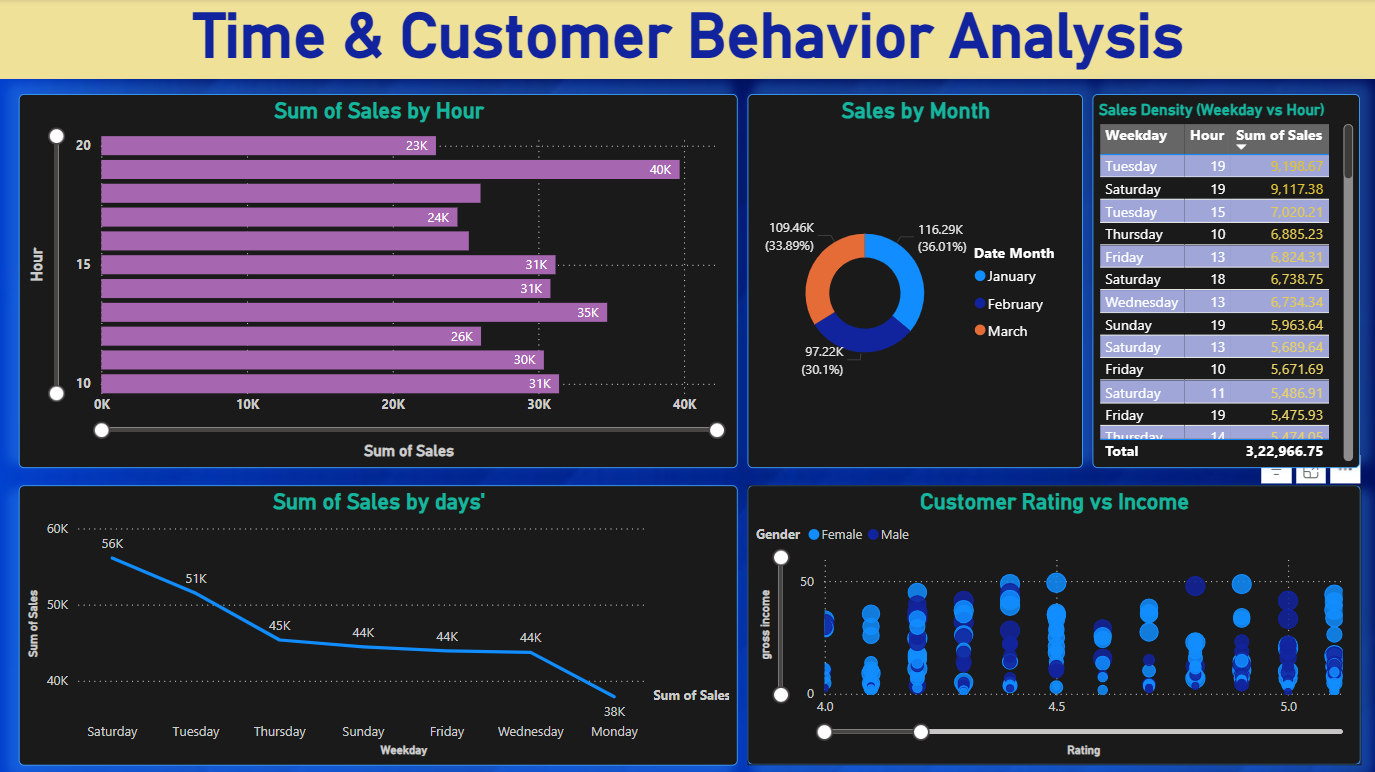

The page's visual inventory and layout, read from the dashboard file:
{"tool":"powerbi","page":{"name":"Time & Customer Behavior Analysis","canvas":[1280,720],"ordinal":2},"visuals":[{"type":"barChart","fields":{"Y":["Sum(SuperMarket Sales Data Cleaned.Sales)"],"Category":["SuperMarket Sales Data Cleaned.Hour"]},"box":[17.4,88.4,668.6,347.7],"z":0},{"type":"lineChart","title":"Sum of Sales by days''","fields":{"Y":["Sum(SuperMarket Sales Data Cleaned.Sales)"],"Category":["SuperMarket Sales Data Cleaned.Weekday"]},"box":[17.4,452.3,668.6,260.5],"z":1000},{"type":"scatterChart","title":"Customer Rating vs Income","fields":{"X":["SuperMarket Sales Data Cleaned.Rating"],"Y":["SuperMarket Sales Data Cleaned.gross income"],"Series":["SuperMarket Sales Data Cleaned.Gender"],"Size":["Sum(SuperMarket Sales Data Cleaned.Quantity)"]},"box":[695.7,452.9,570,260],"z":2000},{"type":"textbox","title":"Time & Customer Behavior Analysis","box":[0,0,1280,74.3],"z":3000},{"type":"donutChart","title":"Sales by Month","fields":{"Y":["Sum(SuperMarket Sales Data Cleaned.Sales)"],"Category":["SuperMarket Sales Data Cleaned.Date.Variation.Date Hierarchy.Month"]},"box":[695.4,88.4,311.6,347.7],"z":4000},{"type":"tableEx","title":"Sales Density (Weekday vs Hour)","fields":{"Values":["SuperMarket Sales Data Cleaned.Weekday","SuperMarket Sales Data Cleaned.Hour","Sum(SuperMarket Sales Data Cleaned.Sales)"]},"box":[1016.3,88.4,248.8,347.7],"z":5000}]}

Visuals, with their boxes in screenshot pixels (x1, y1, x2, y2), scaled from the page's 1280x720 canvas onto the 1375x772 screenshot:
barChart - Sum(SuperMarket Sales Data Cleaned.Sales) x SuperMarket Sales Data Cleaned.Hour: l=19, t=95, r=737, b=468
"Sum of Sales by days''" lineChart: l=19, t=485, r=737, b=764
"Customer Rating vs Income" scatterChart: l=747, t=486, r=1360, b=764
"Time & Customer Behavior Analysis" textbox: l=0, t=0, r=1374, b=80
"Sales by Month" donutChart: l=747, t=95, r=1082, b=468
"Sales Density (Weekday vs Hour)" tableEx: l=1092, t=95, r=1359, b=468
